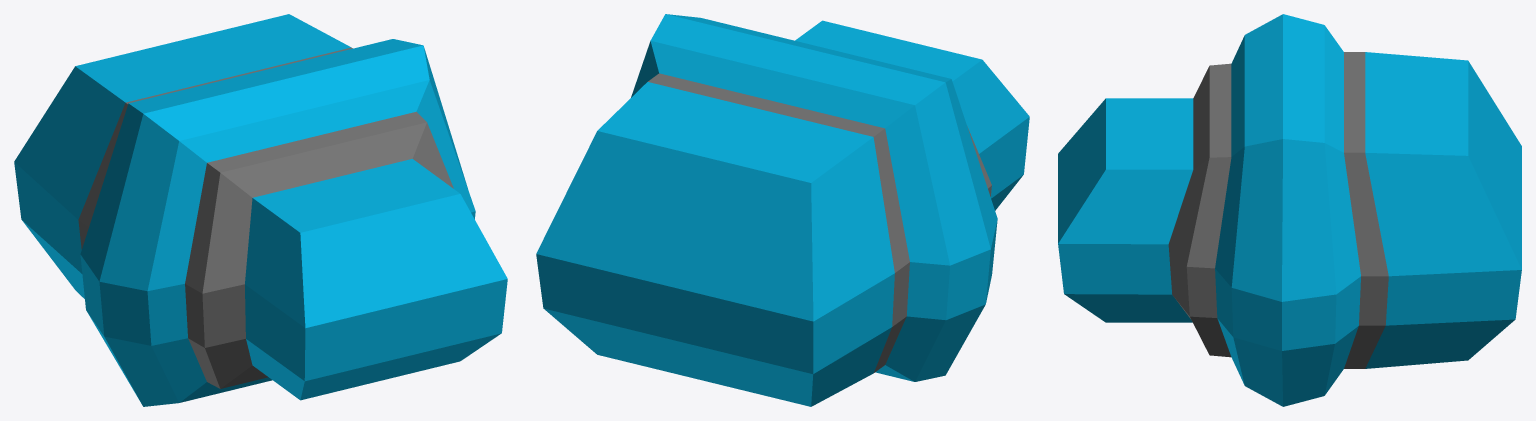
File: _1Ship_PIece27.fbx
3 renders of one model, left to right at view 1: azimuth 30°, elevation 25°; view 2: azimuth 150°, elevation 25°; view 3: azimuth 270°, elevation 25°, orthographic. The views are drawn at different scales.
Visible parts, largest first — view 1: Ship_PIece27; view 2: Ship_PIece27; view 3: Ship_PIece27.
Boxes of the visible parts, x1,y1,x2,y2 form: Ship_PIece27: (14, 14, 507, 406); Ship_PIece27: (536, 14, 1029, 406); Ship_PIece27: (1058, 14, 1521, 406).
Bounding box in the file's own units: 288 × 219 × 343.
